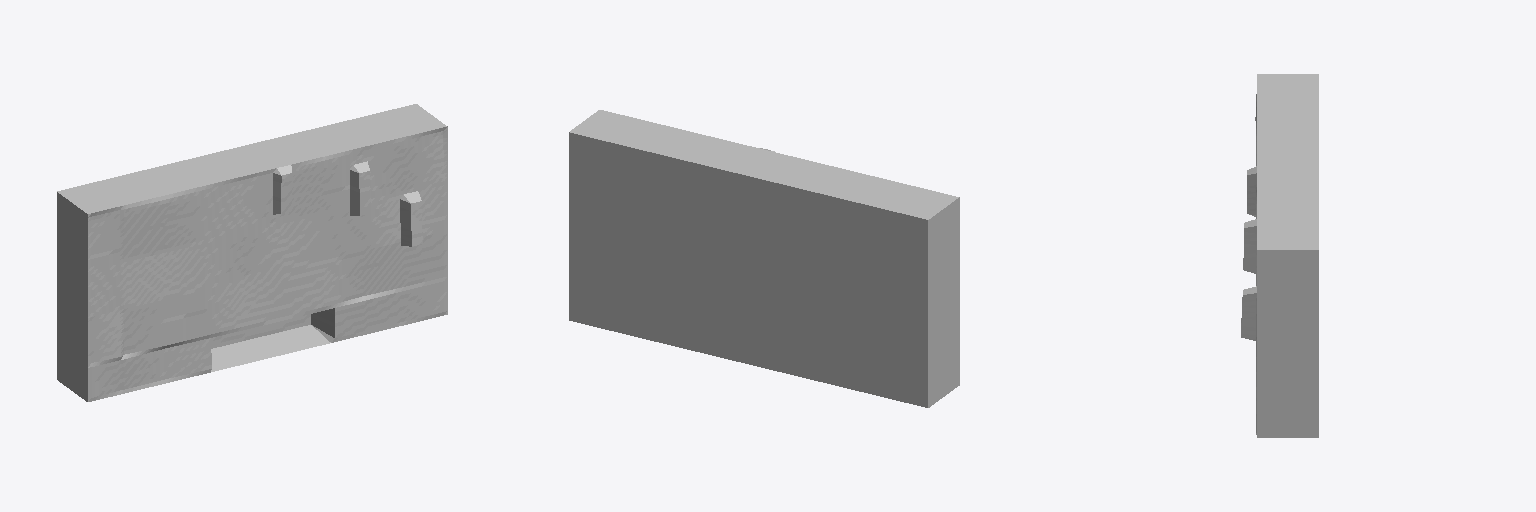
File: rectangular_prism_bumps_8_2.obj
3 views of the same model, side by side, from view 1: azimuth 30°, elevation 25°; view 2: azimuth 150°, elevation 25°; view 3: azimuth 270°, elevation 25° (orthographic).
Size of the model in its own units: 10 by 5 by 1.88.